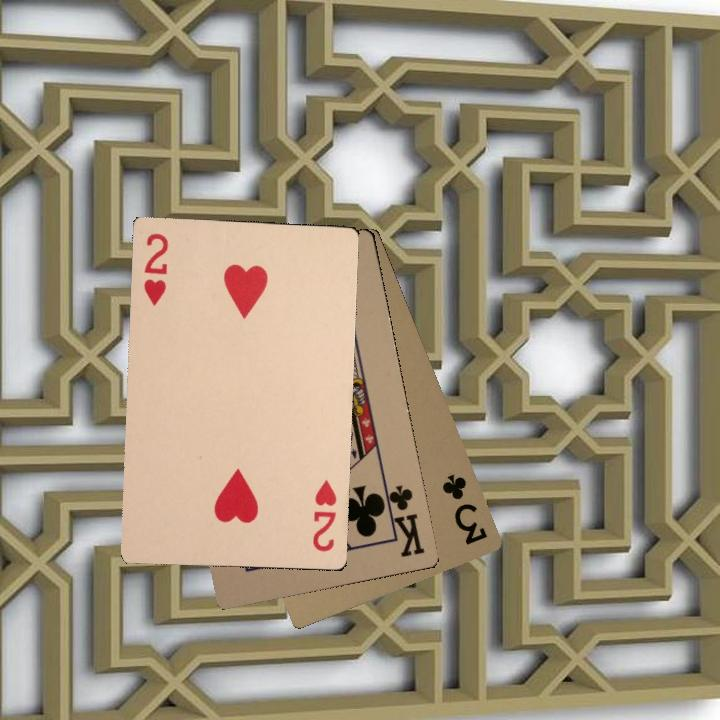2h: (139, 229, 171, 308), (308, 476, 339, 554)
3c: (437, 470, 490, 548)
Kc: (379, 481, 428, 560)
